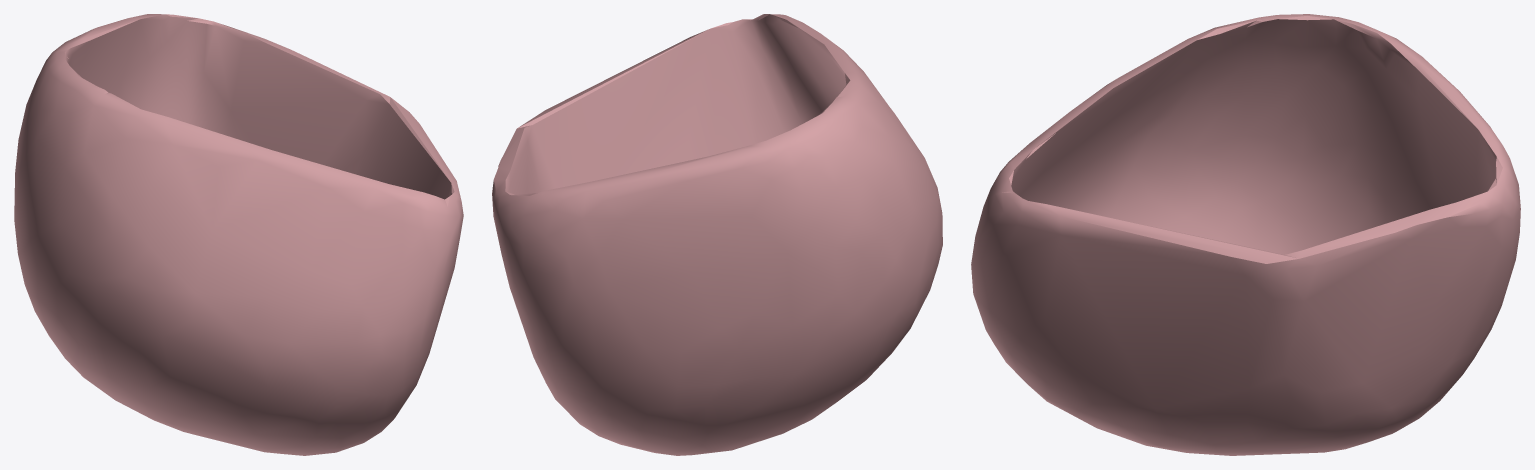
The model's file is fma7249_fj2434.glb.
3 renders of one model, left to right at view 1: azimuth 30°, elevation 25°; view 2: azimuth 150°, elevation 25°; view 3: azimuth 270°, elevation 25°, orthographic.
Parts seen in each view (by area): view 1: FMA7249_FJ2434; view 2: FMA7249_FJ2434; view 3: FMA7249_FJ2434.
Part boxes in pixels (x1=…): FMA7249_FJ2434: x1=14, y1=14, x2=463, y2=455; FMA7249_FJ2434: x1=492, y1=14, x2=942, y2=455; FMA7249_FJ2434: x1=971, y1=14, x2=1520, y2=455.
Bounding box in the file's own units: 0.0188 × 0.0172 × 0.024.
